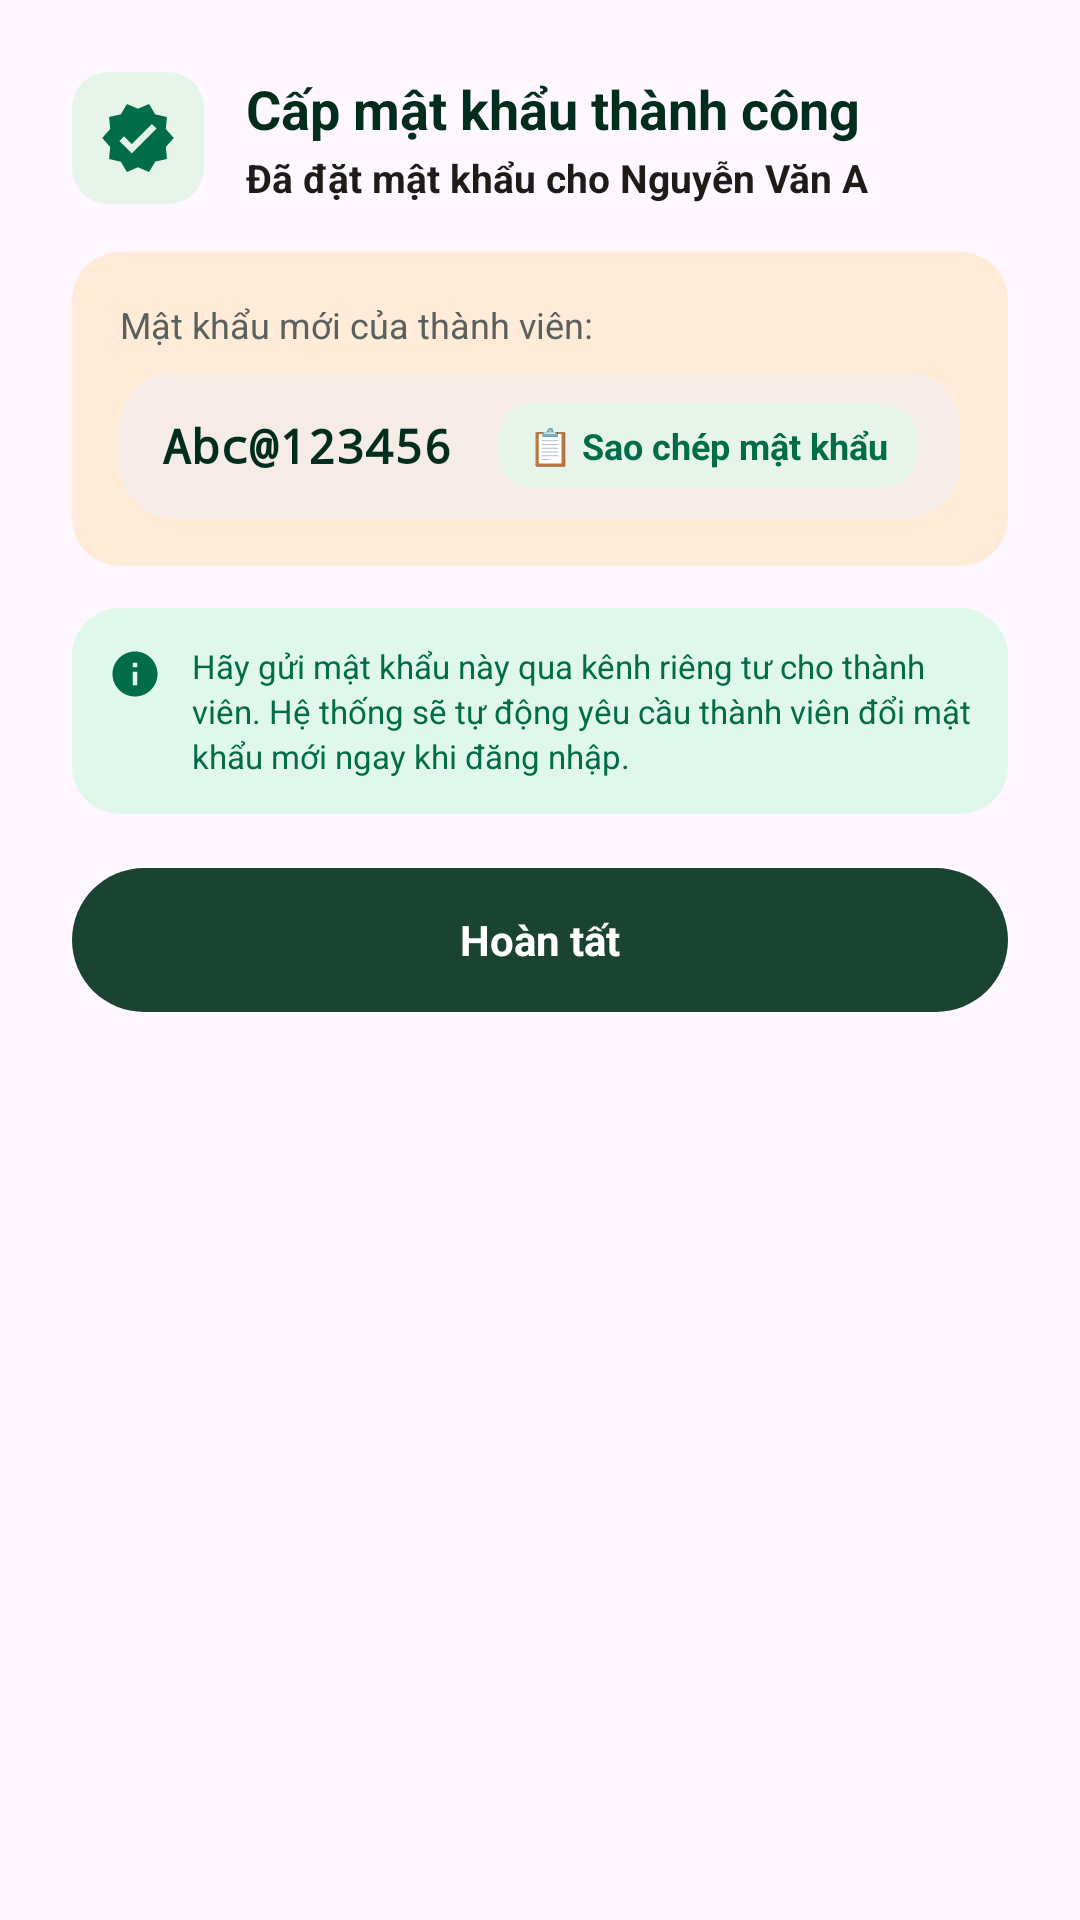

Icons on this 1080*1920 Android screen, each with the point to tap as point (x, y):
Success Icon: point (138, 138)
